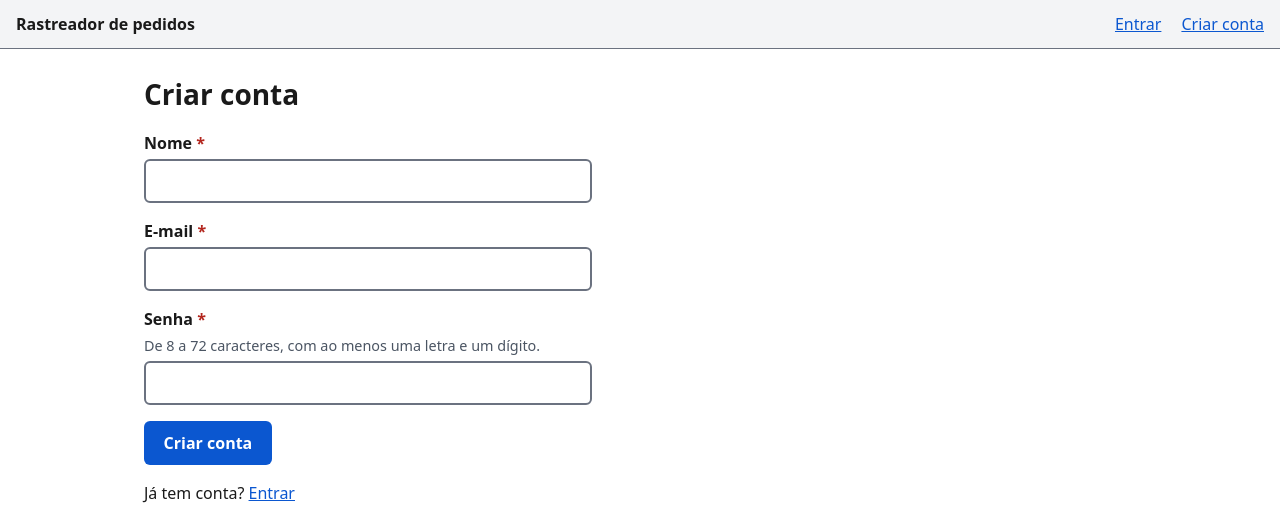
Test case: RegisterPage › o destino original sobrevive ao cadastro
The width and height of the screenshot is (1280, 520).
Expected: the heading "Criar conta" is shown, [144,75,299,113]
Type "Ana Souza" into the field labelled "Nome *" at (368, 181), box [144,159,592,203]
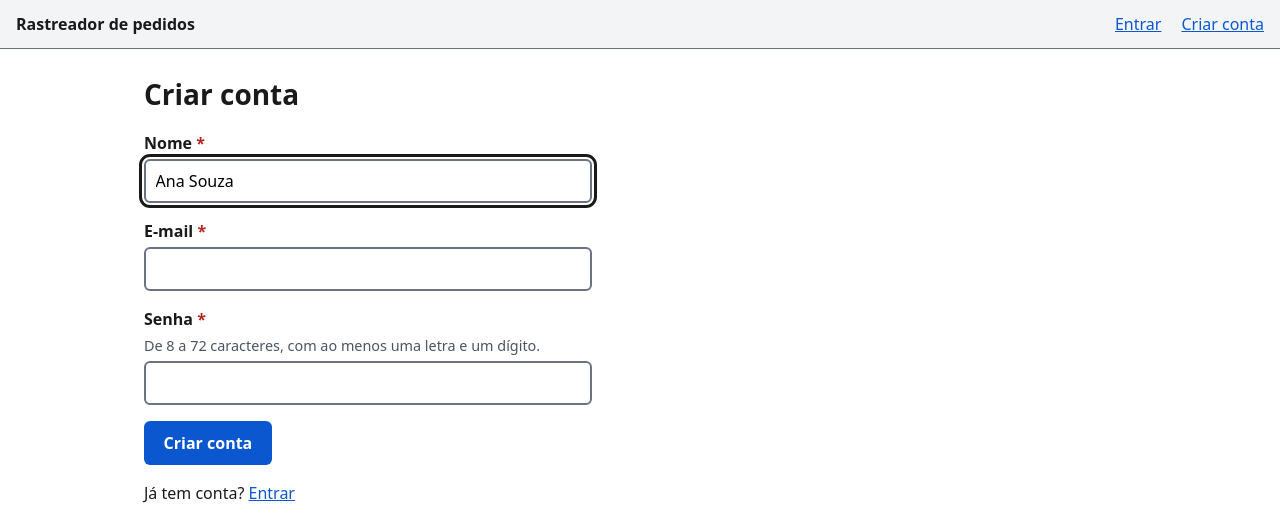
Type "nova@exemplo.com" into the field labelled "E-mail *" at (368, 269), box [144,247,592,291]
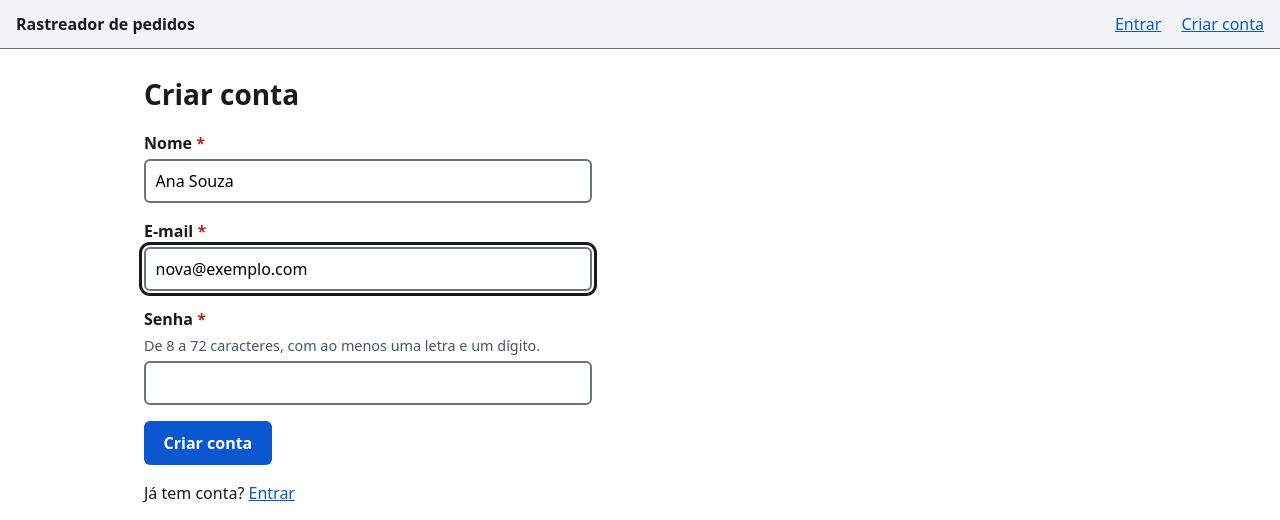
Type "segredo123" into the password field labelled "Senha *" at (368, 383), box [144,361,592,405]
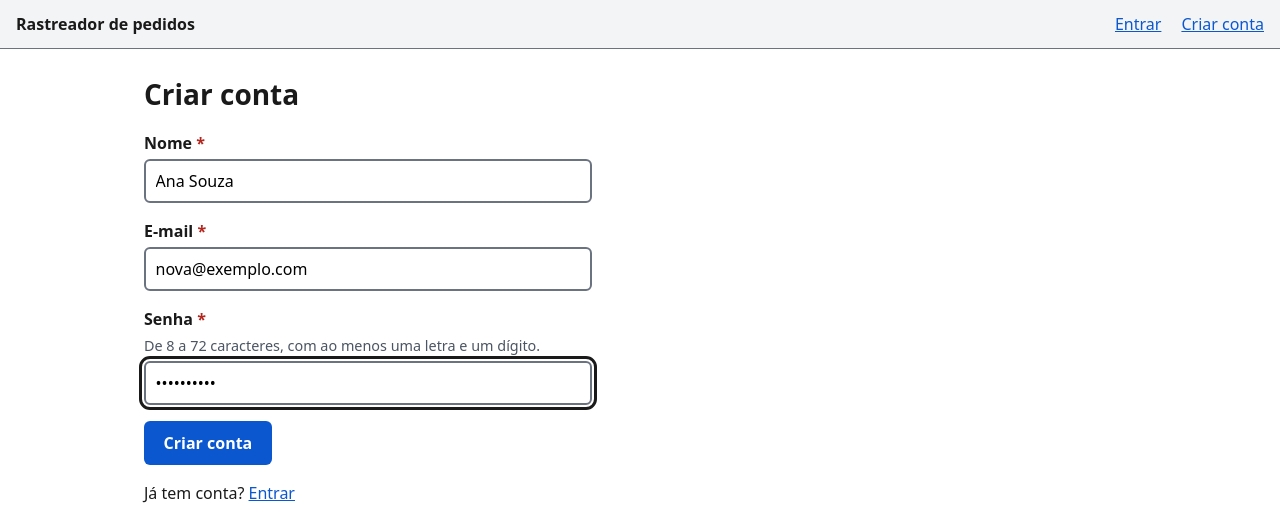
Click the button "Criar conta" at (208, 443), box [144,421,272,465]
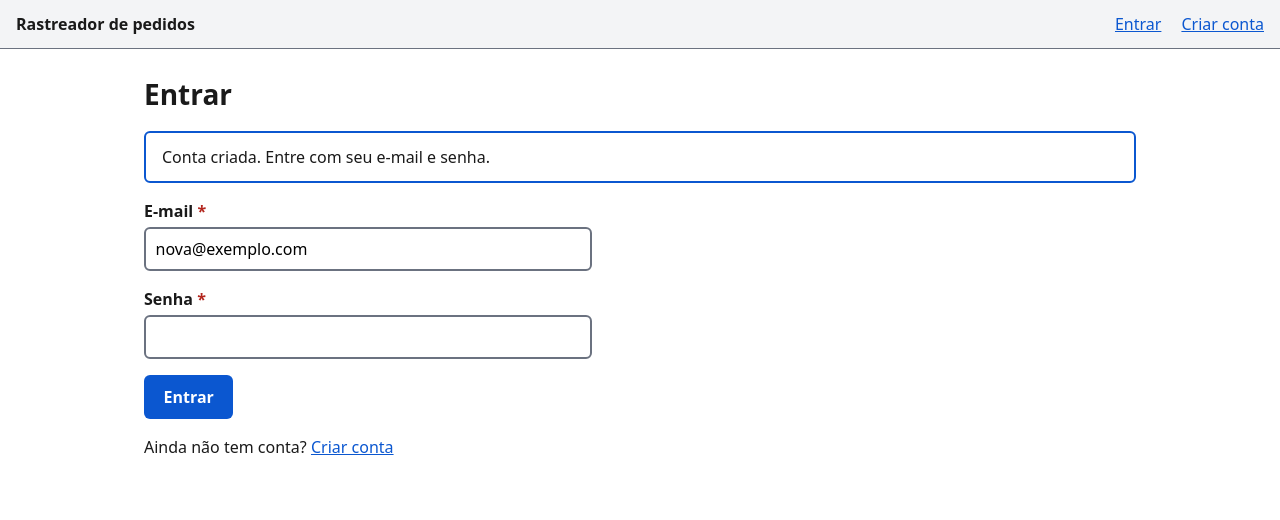
Expected: the heading "Entrar" is shown, [144,75,232,113]
